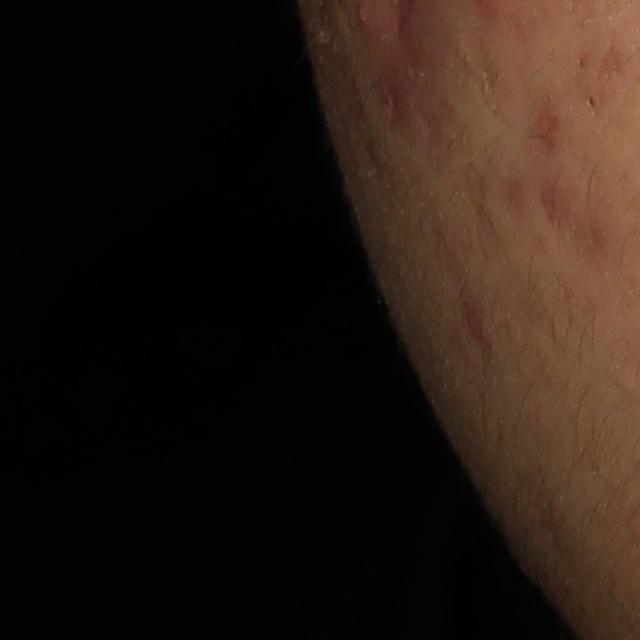comedo: (585, 92, 598, 113)
